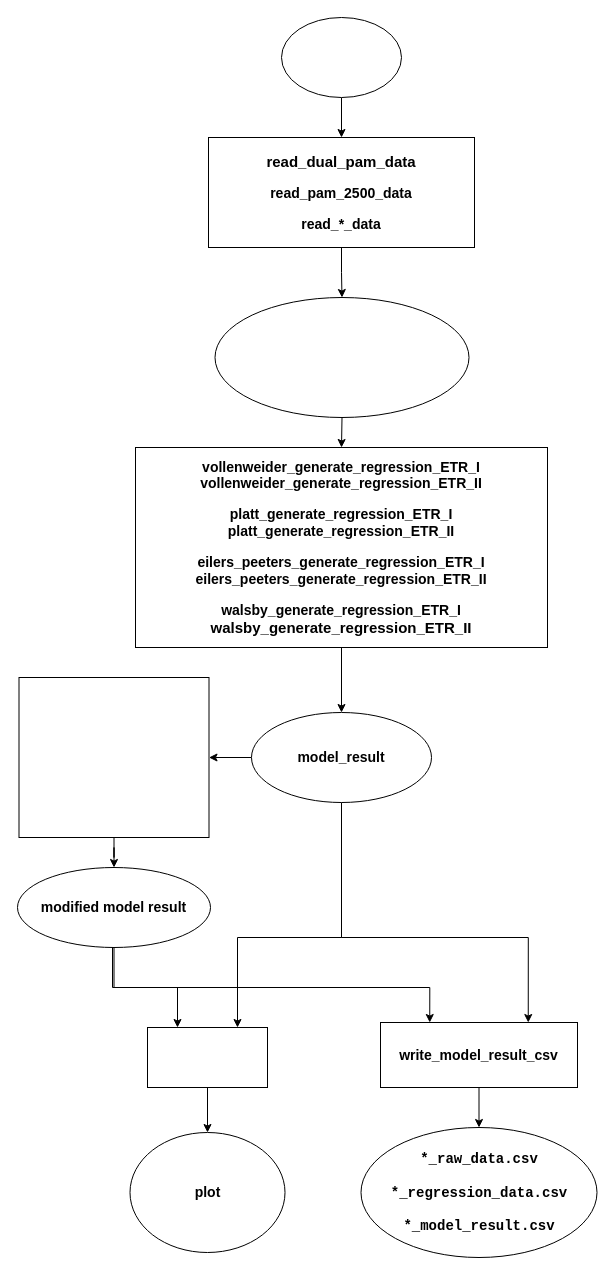
Image size: 615x1275. Some labels were removed from this diagram. The centre of each missing label's shape, as x and y in pixels:
intermediate_table (par, yield_1, yield_2, etr_1, etr_2): (x=341, y=357)
plot_control: (x=207, y=1057)
raw data csv: (x=341, y=57)
vollenweider_modified platt_modified eilers_peeters_modified walsby_modified: (x=113, y=757)
